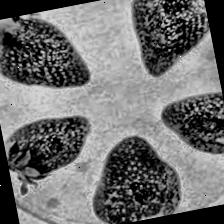Anthracnose Fruit Rot: (1, 28, 48, 72), (25, 132, 72, 168), (186, 105, 224, 141), (123, 176, 160, 211), (154, 0, 197, 22)
